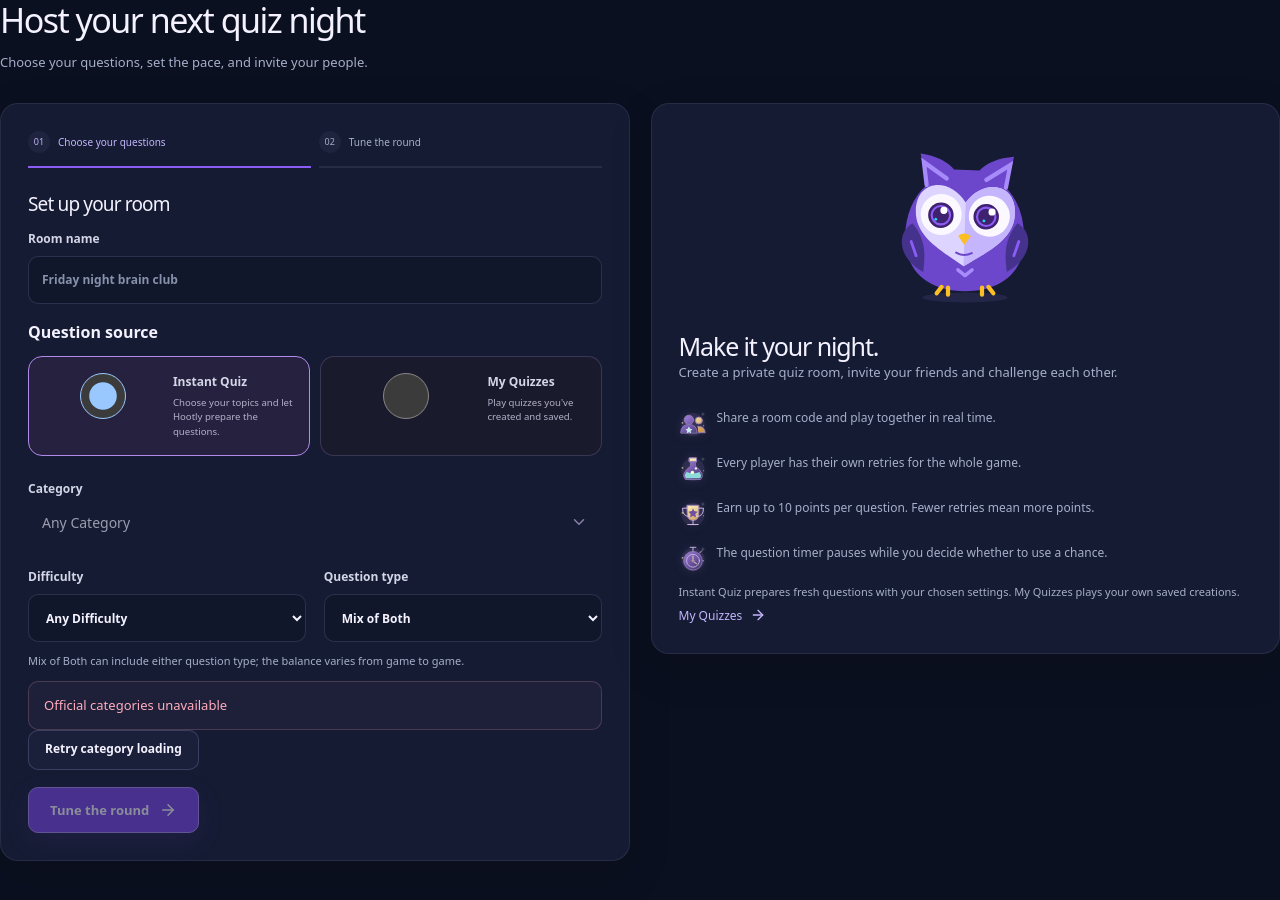
Scenario: retries categories and keeps My Quizzes separate from Instant Quiz
Expected: the message reads "Official categories unavailable", [44,696,227,714]
Expected: the button "Tune the round" is disabled, [28,787,199,833]
Click the button "Retry category loading". click: x=113, y=750
box: [28,730,199,770]
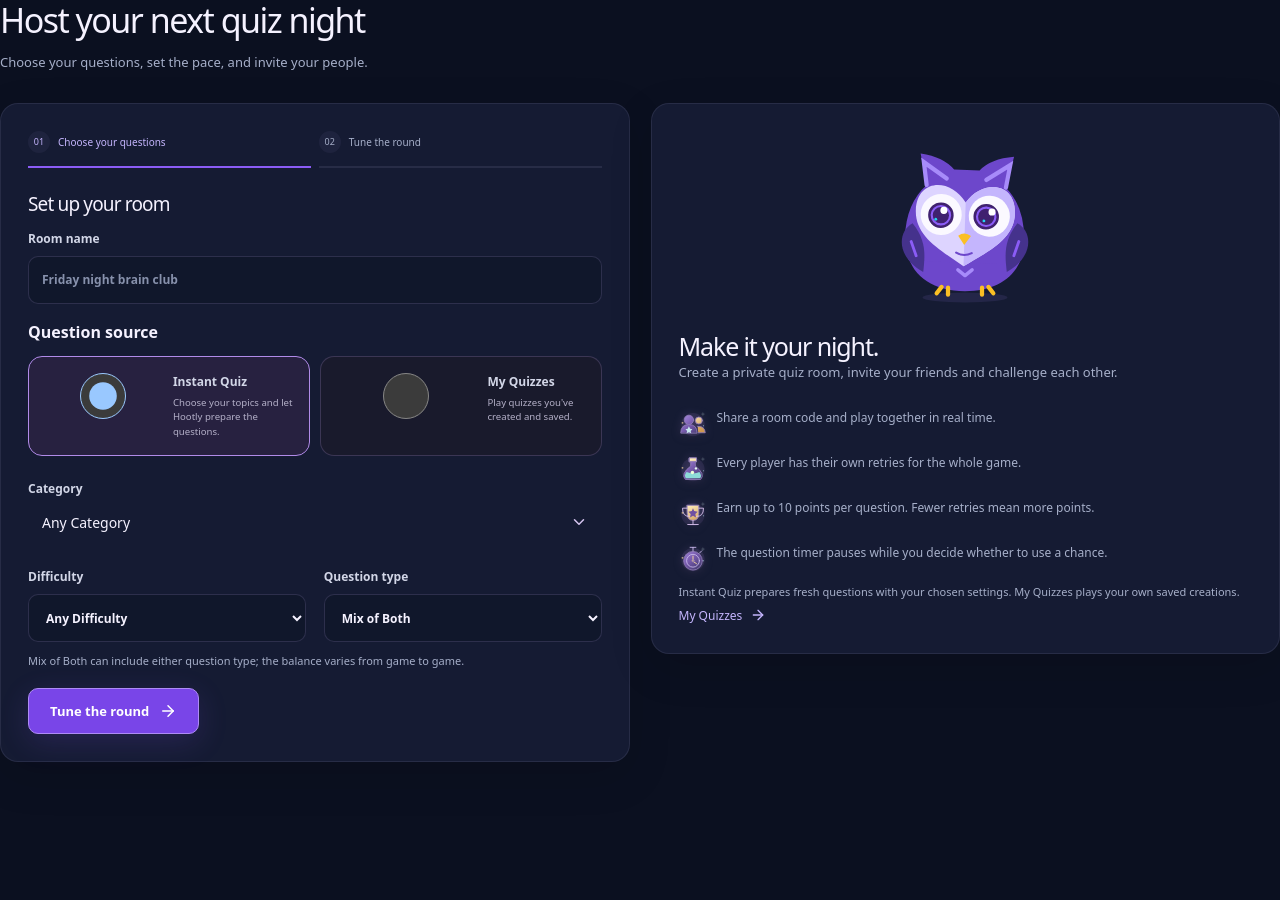
Expected: the dropdown labelled "Category" is enabled
Click the dropdown labelled "Category". click: x=86, y=522
box: [28,498,602,546]
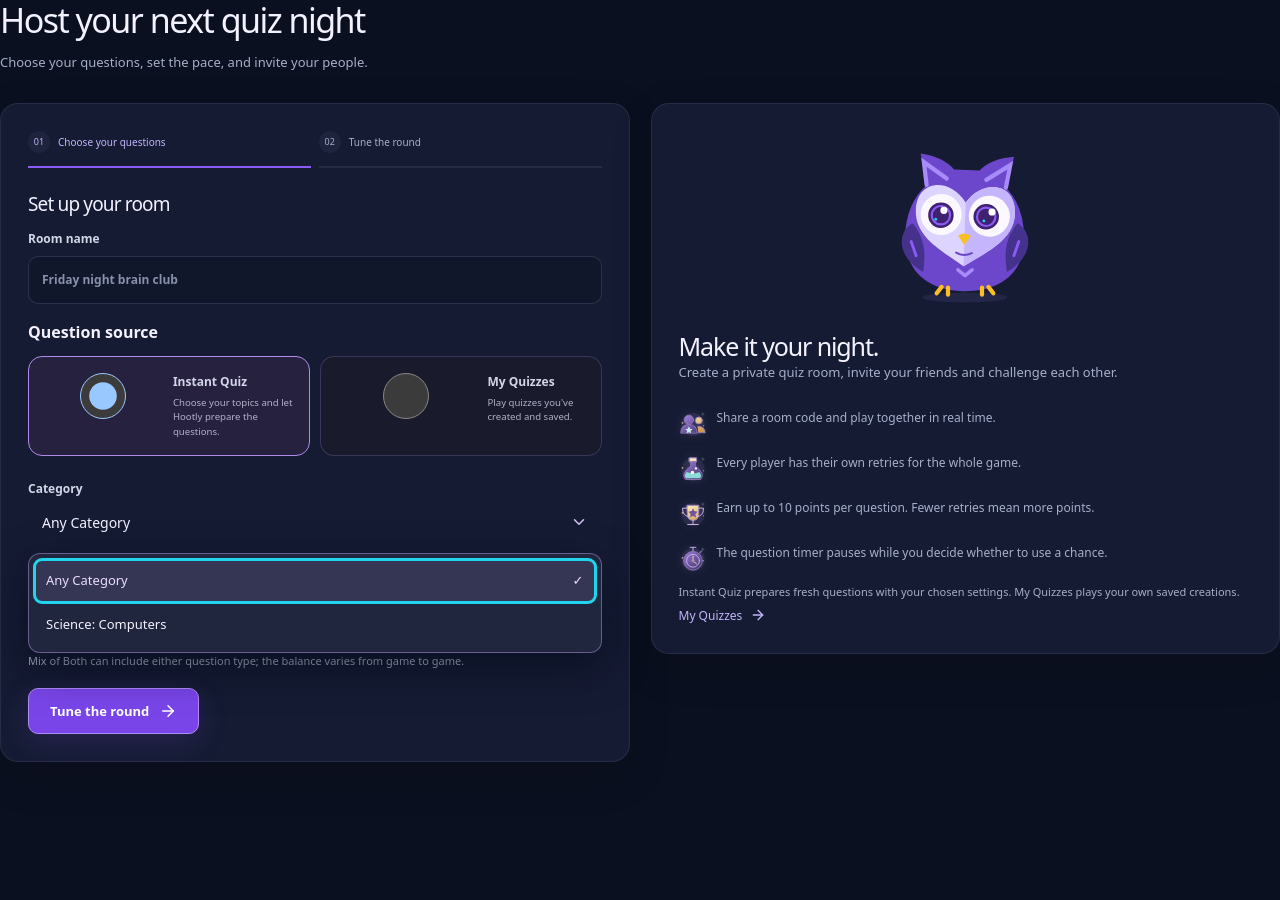
Press Escape
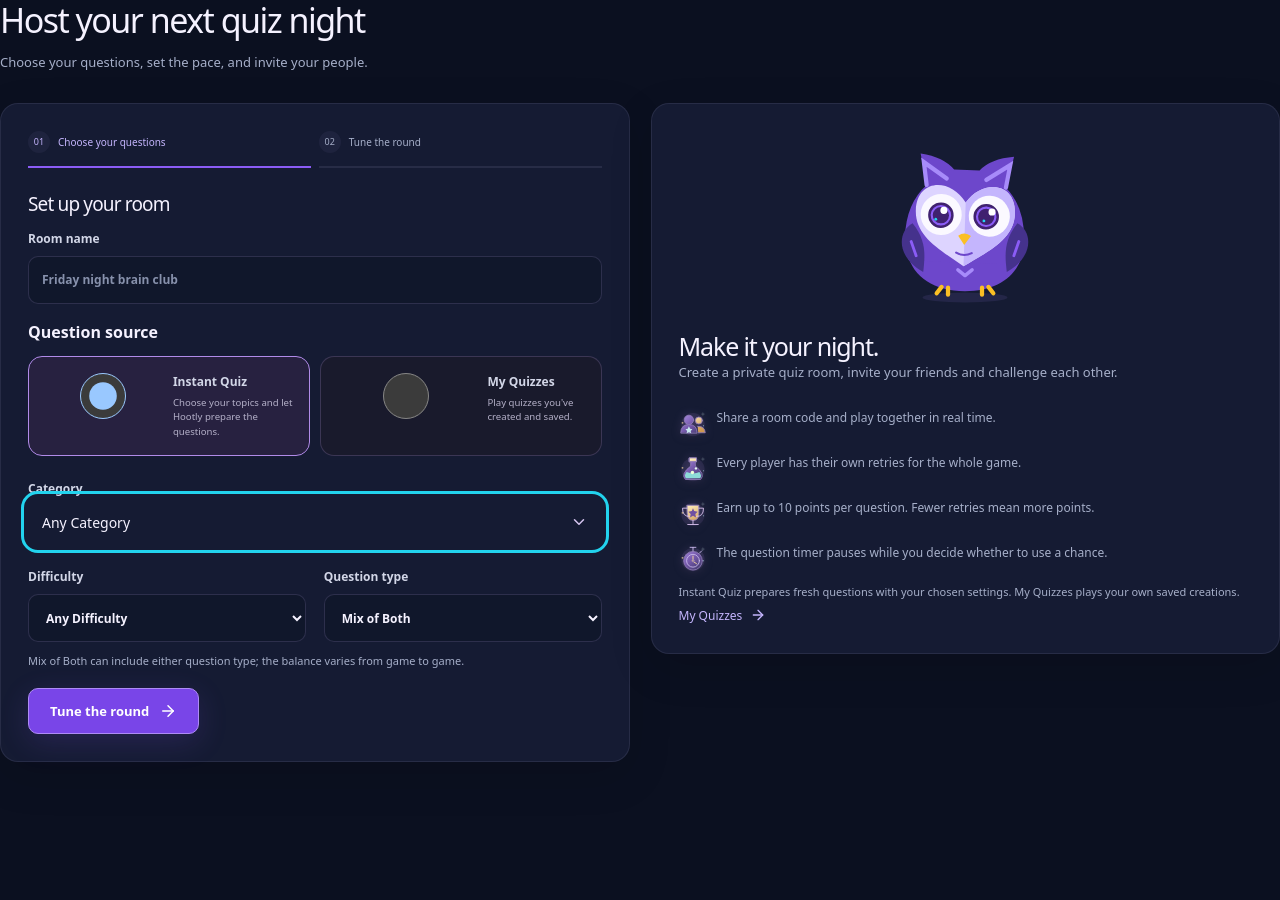
Click the radio button labelled "My Quizzes". click: x=406, y=396
box: [337,373,476,419]
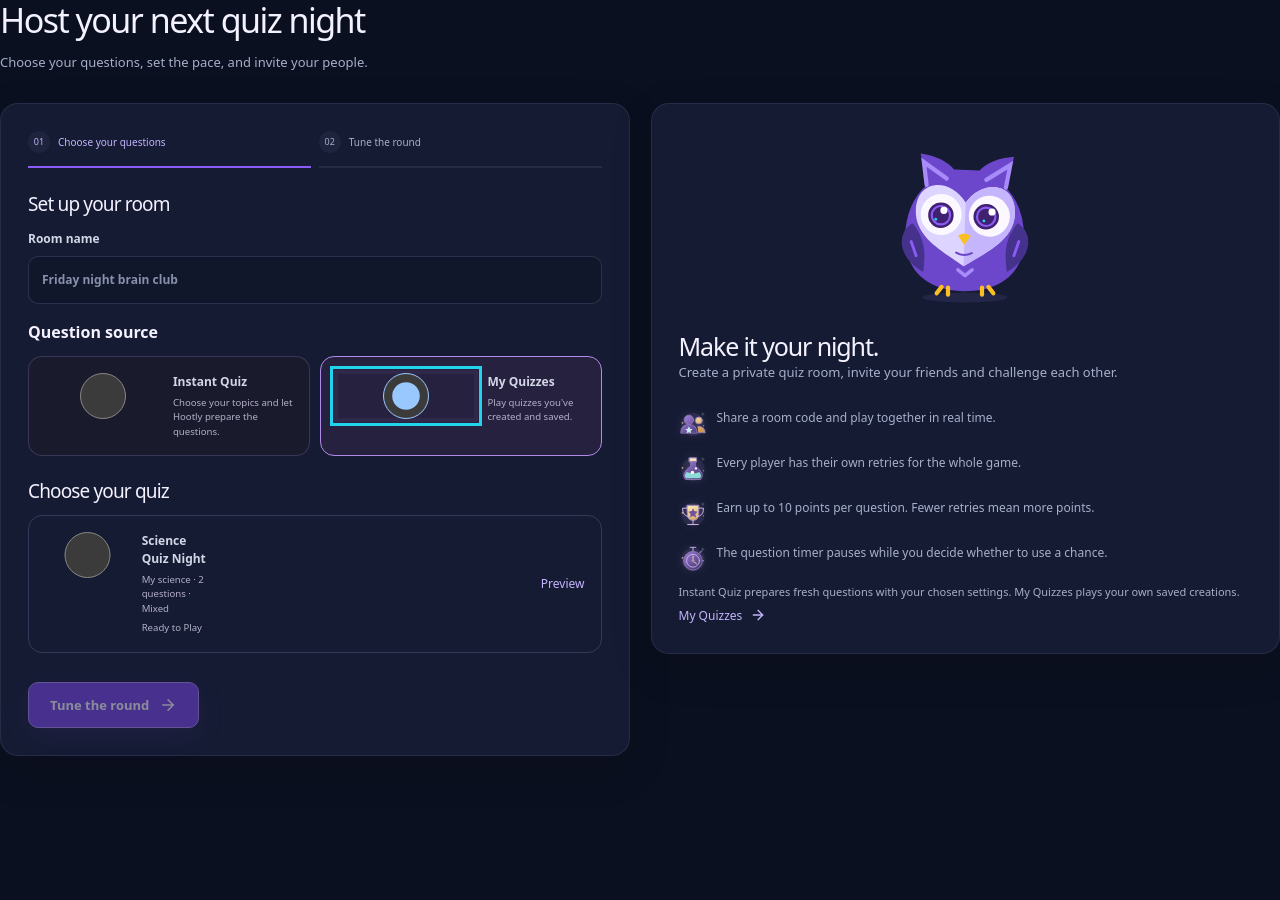
Expected: the text "Science Quiz Night" is shown, [142,532,206,567]
Expected: the label "Category" is gone
Expected: the label labelled "Difficulty" is gone
Click the radio button labelled "Instant Quiz". click: x=103, y=396
box: [45,373,161,419]
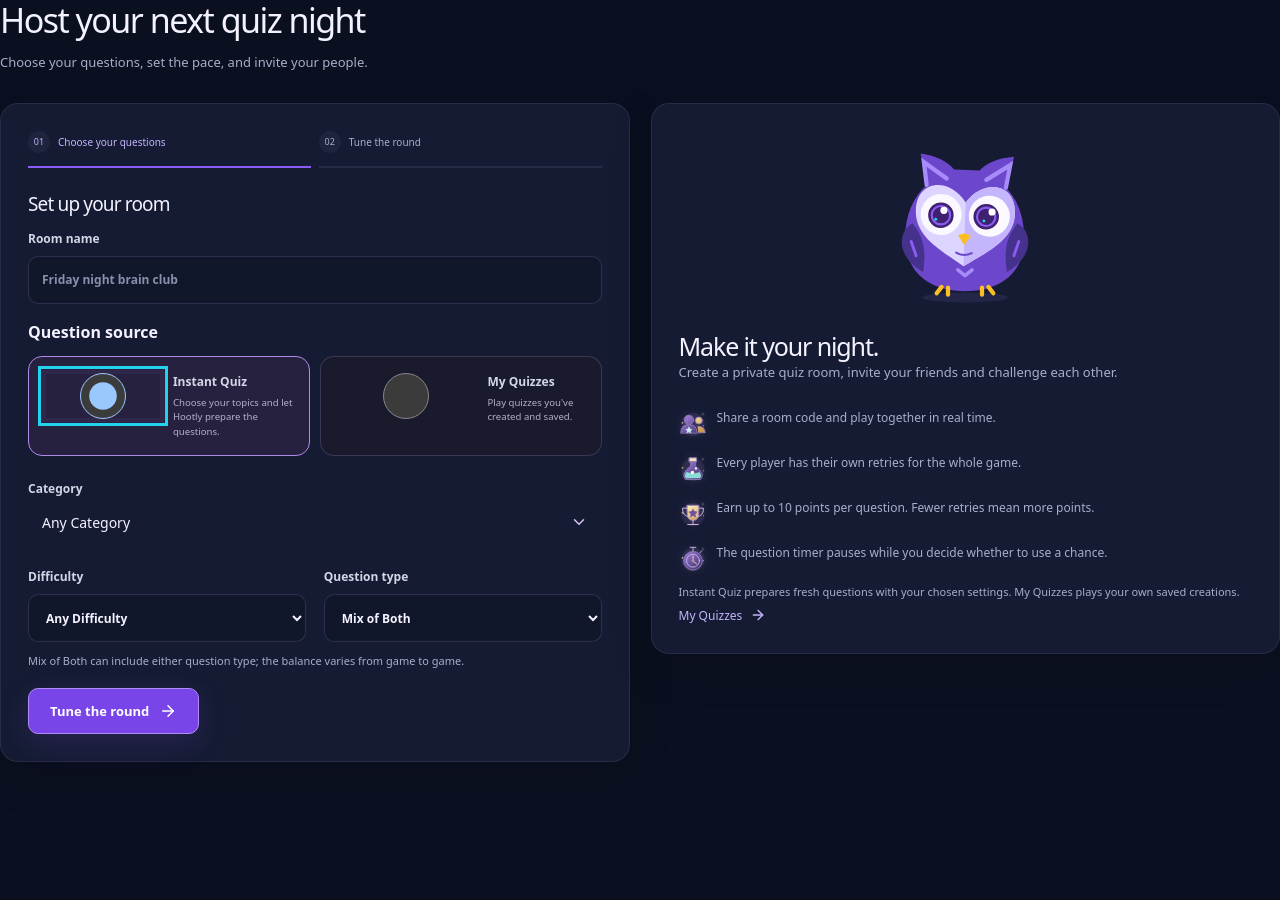
Expected: the dropdown labelled "Category" is enabled, [28,498,602,546]
Expected: the dropdown labelled "Category" reads "Any Category", [28,498,602,546]
